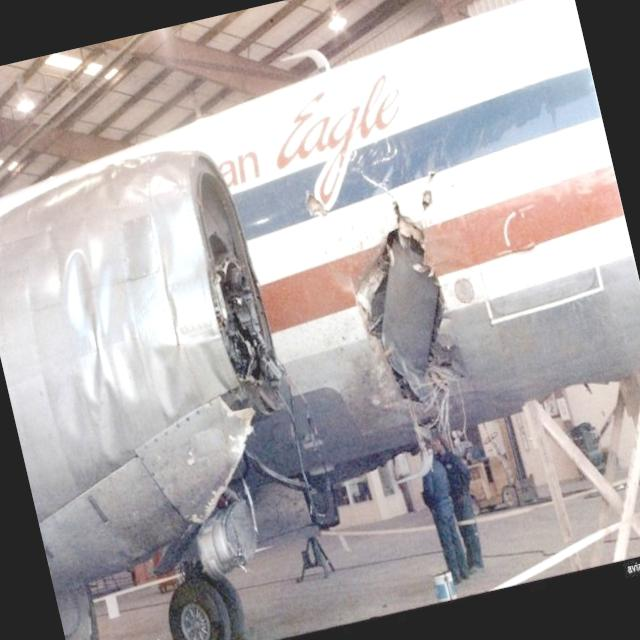dent: (22, 220, 220, 463)
